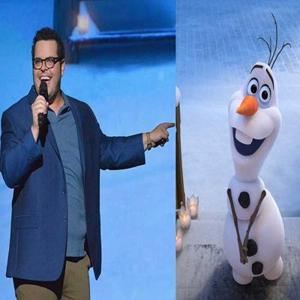olaf: (218, 21, 292, 285)
